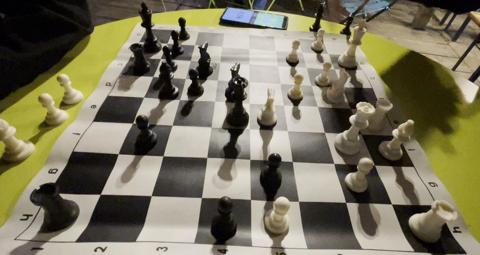xcorner: (94, 184, 104, 194), (144, 186, 154, 196), (194, 187, 204, 197), (243, 189, 253, 199), (291, 191, 301, 201), (339, 193, 349, 203), (385, 194, 395, 204), (112, 144, 122, 154), (156, 146, 166, 156), (200, 148, 210, 158), (243, 150, 253, 160), (285, 152, 295, 162), (327, 154, 337, 164), (368, 155, 378, 165), (126, 114, 136, 124), (165, 116, 175, 126), (204, 117, 214, 127), (243, 119, 253, 129), (281, 121, 291, 131), (318, 123, 328, 133), (355, 125, 365, 135), (138, 89, 148, 99), (173, 91, 183, 101), (208, 93, 218, 103), (243, 95, 253, 105), (277, 96, 287, 106), (311, 98, 321, 108), (344, 100, 354, 110), (147, 69, 157, 79), (179, 71, 189, 81), (211, 72, 221, 82), (243, 74, 253, 84), (274, 76, 284, 86), (305, 78, 315, 88), (335, 79, 345, 89), (155, 52, 165, 62), (184, 54, 194, 64), (214, 55, 224, 65), (243, 57, 253, 67), (271, 59, 281, 69), (300, 60, 310, 70), (328, 62, 338, 72), (162, 38, 172, 48), (189, 39, 199, 49), (216, 41, 226, 51), (243, 43, 253, 53), (269, 44, 279, 54), (296, 46, 306, 56), (322, 47, 332, 57)
